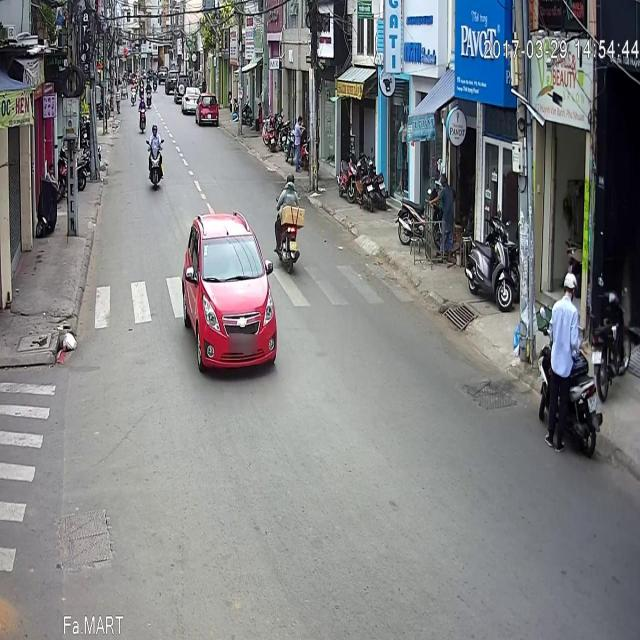car: (181, 152, 277, 315), (194, 34, 218, 69)
motorcycle: (273, 113, 305, 216), (146, 66, 164, 132), (136, 36, 146, 74)
